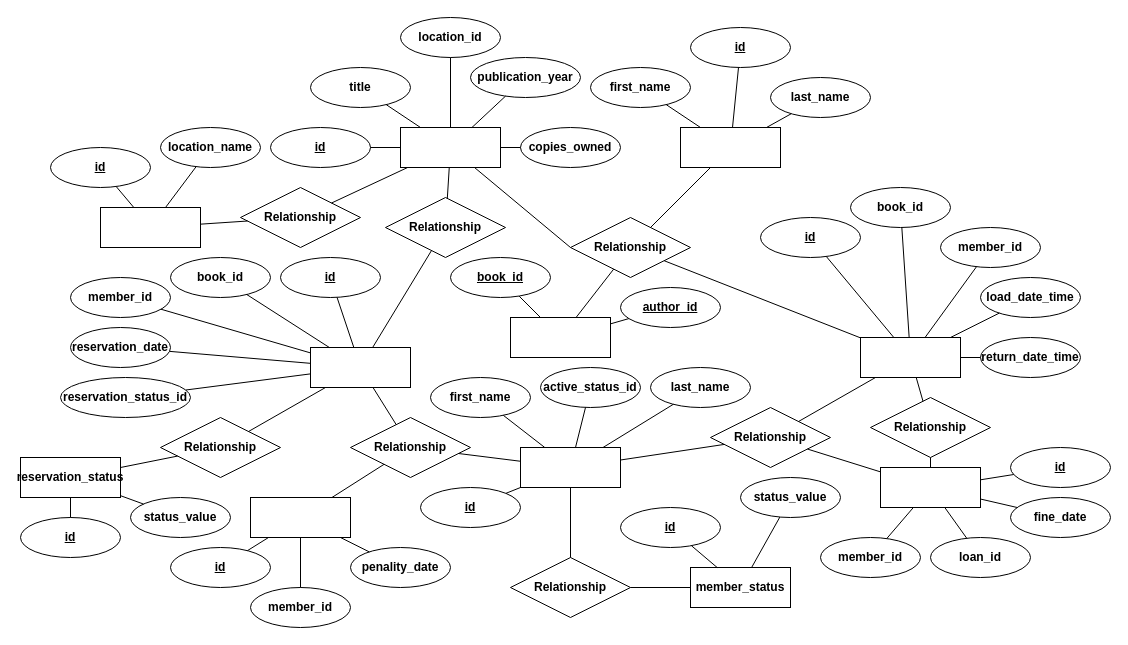
The diagram is 1128 pixels wide and 645 high, and some of its shapes have lost their labels. The centre of each missing label's shape, as x and y in pixels:
"author" belongs at (x=730, y=147).
"book" belongs at (x=450, y=147).
"book_author" belongs at (x=560, y=337).
"fine" belongs at (x=930, y=487).
"fine_penality" belongs at (x=300, y=517).
"loan" belongs at (x=910, y=357).
"location" belongs at (x=150, y=227).
"member" belongs at (x=570, y=467).
"reservation" belongs at (x=360, y=367).
